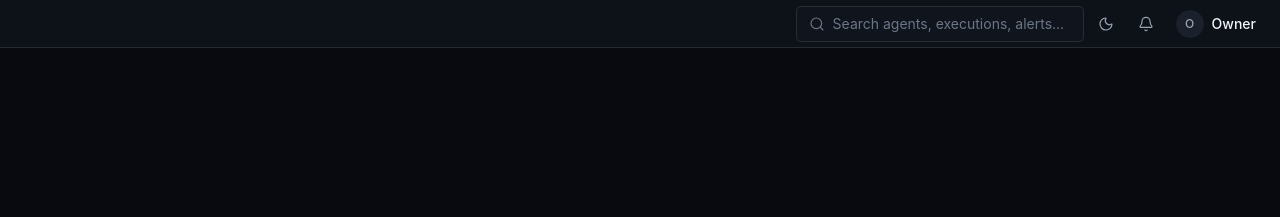
Test: TopBar › offers sign-in rather than sign-out when there is no owner session
This screenshot has width=1280, height=217.
Click the button with aria-label "User menu" at [1218, 24], box [1172,6,1264,42]
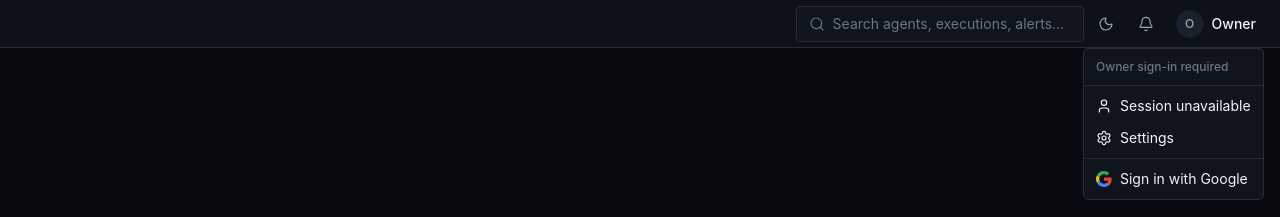
Check: the icon with test id "google-logo" is shown, box [1096,171,1112,187]
